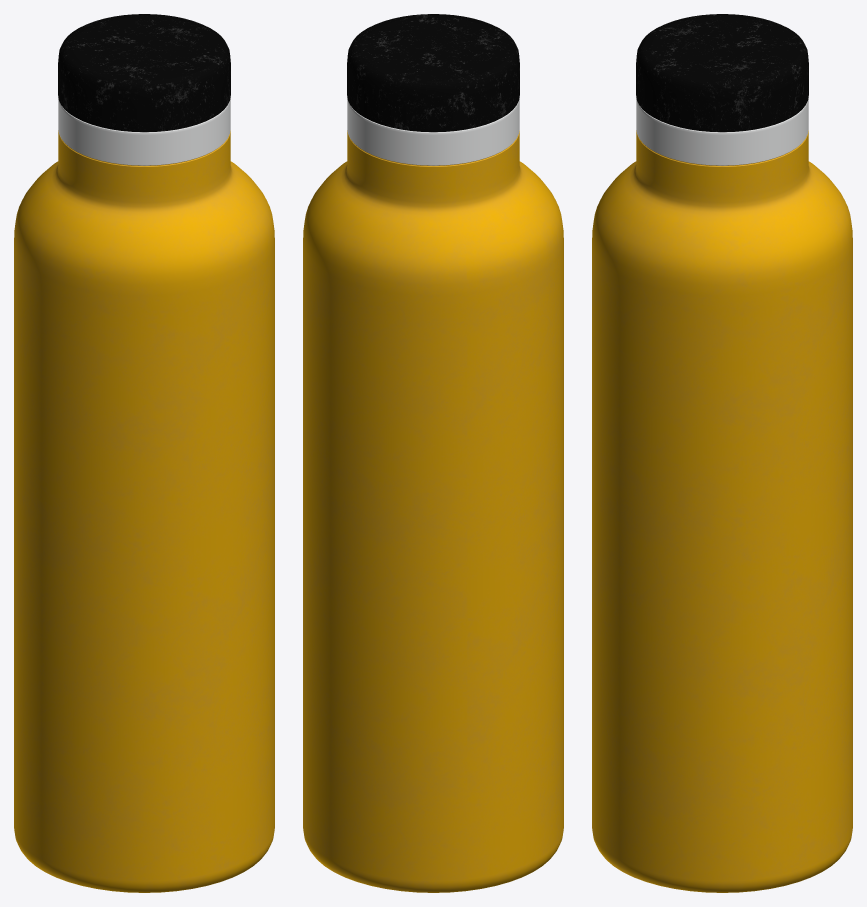
File: water_bottle.glb
The picture shows the model from 3 angles, left to right: view 1: azimuth 30°, elevation 25°; view 2: azimuth 150°, elevation 25°; view 3: azimuth 270°, elevation 25°; orthographic projection.
Visible parts, largest first — view 1: Water_Bottle_Yellow_Part, Water_Bottle_Lid, Water_Bottle_Metal_Part; view 2: Water_Bottle_Yellow_Part, Water_Bottle_Lid, Water_Bottle_Metal_Part; view 3: Water_Bottle_Yellow_Part, Water_Bottle_Lid, Water_Bottle_Metal_Part.
Boxes of the visible parts, x1,y1,x2,y2 form: Water_Bottle_Yellow_Part: (14,130,274,892); Water_Bottle_Lid: (58,14,230,132); Water_Bottle_Metal_Part: (58,98,230,165); Water_Bottle_Yellow_Part: (303,130,563,892); Water_Bottle_Lid: (347,14,519,132); Water_Bottle_Metal_Part: (347,98,519,165); Water_Bottle_Yellow_Part: (592,130,852,892); Water_Bottle_Lid: (636,14,808,132); Water_Bottle_Metal_Part: (636,98,808,165).
Size of the model in its own units: 0.5848 by 1.96 by 0.5848.
Materials: 3 (3 with a texture image).
